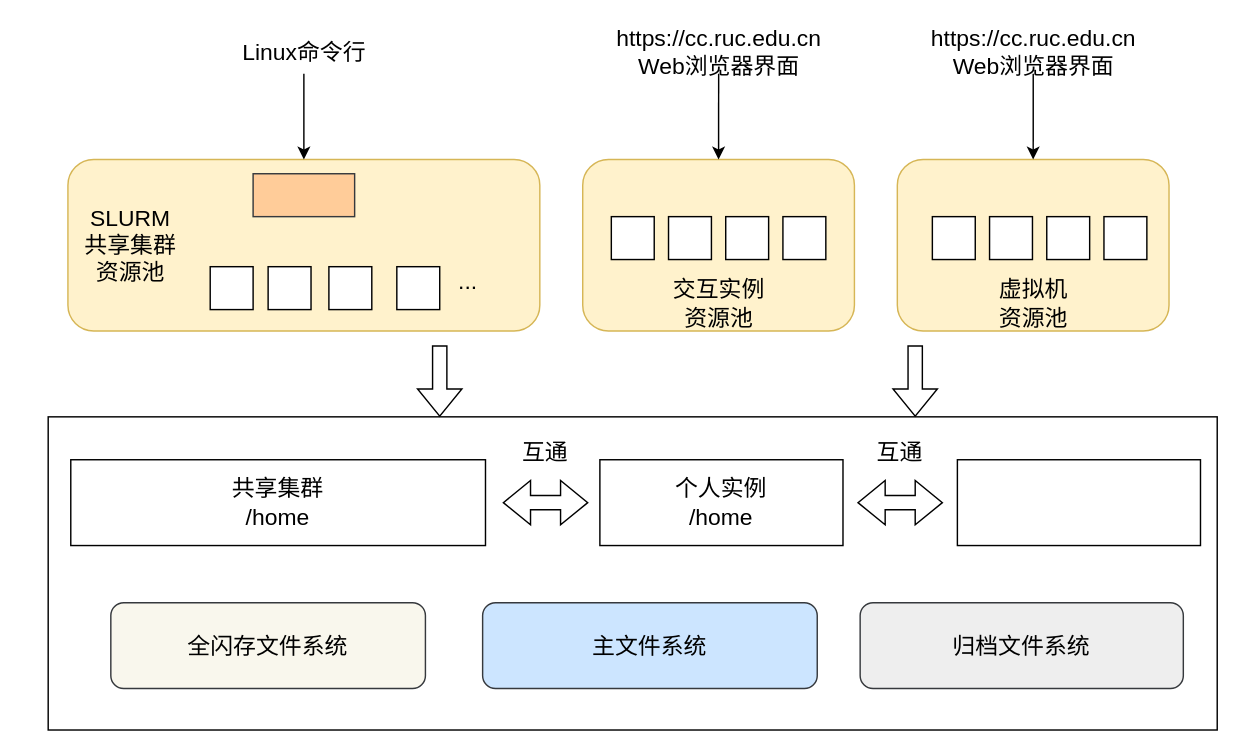
Image size: 1243x755. Some labels were removed from this diagram. Each missing label, with the centre of its shape:
"登录节点" goes at (303,194).
"虚拟机 /home" goes at (1078,502).
